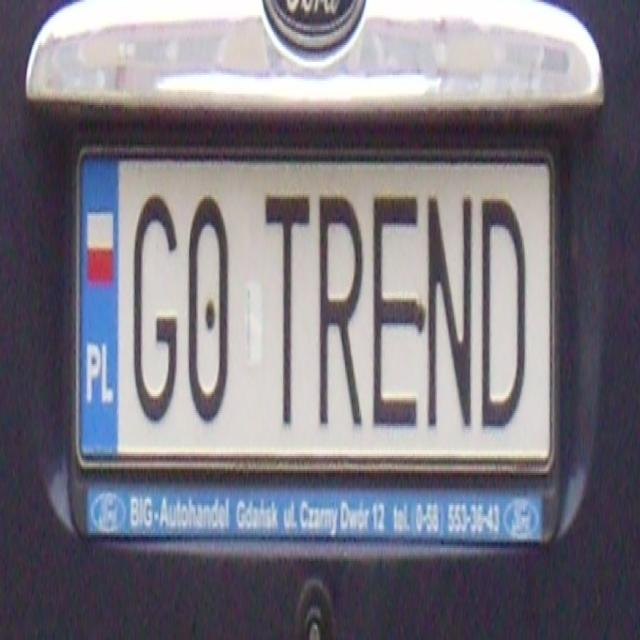pl_license_plate: (75, 143, 555, 471)
